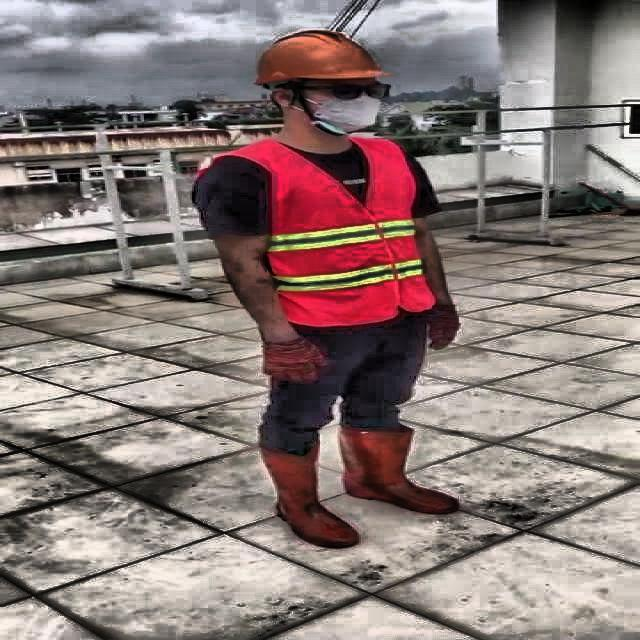safety_jacket: (270, 137, 434, 327)
